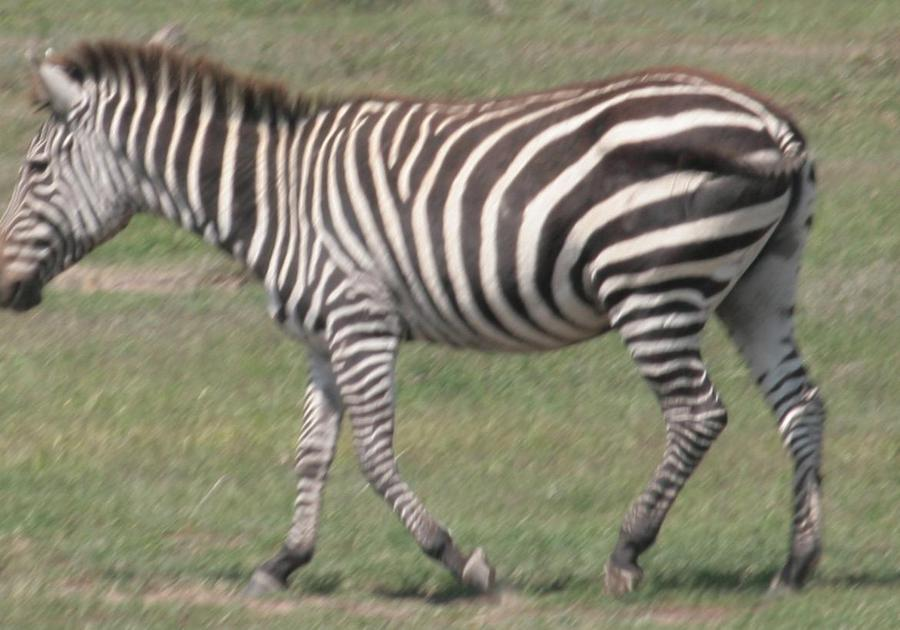zebra_plains: (215, 38, 787, 406)
